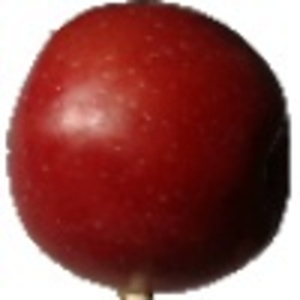maçã braeburn: (3, 1, 292, 293)
